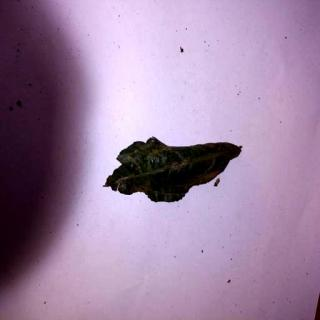Anthracnose: (106, 139, 240, 204)
